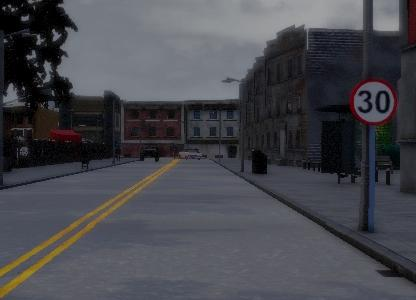Speed_30: (348, 75, 399, 127)
